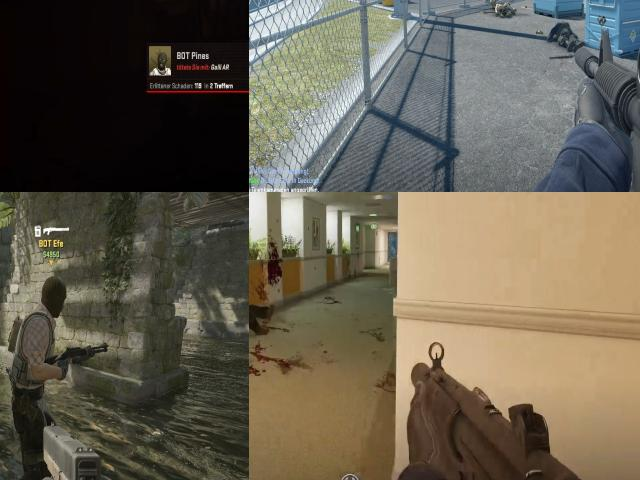Bomb: (2, 310, 26, 362), (536, 27, 545, 38)
Dead: (249, 282, 277, 347), (548, 19, 594, 54), (494, 3, 516, 20), (480, 0, 502, 4)
T: (5, 265, 79, 480)
T-Head: (36, 270, 72, 320)
